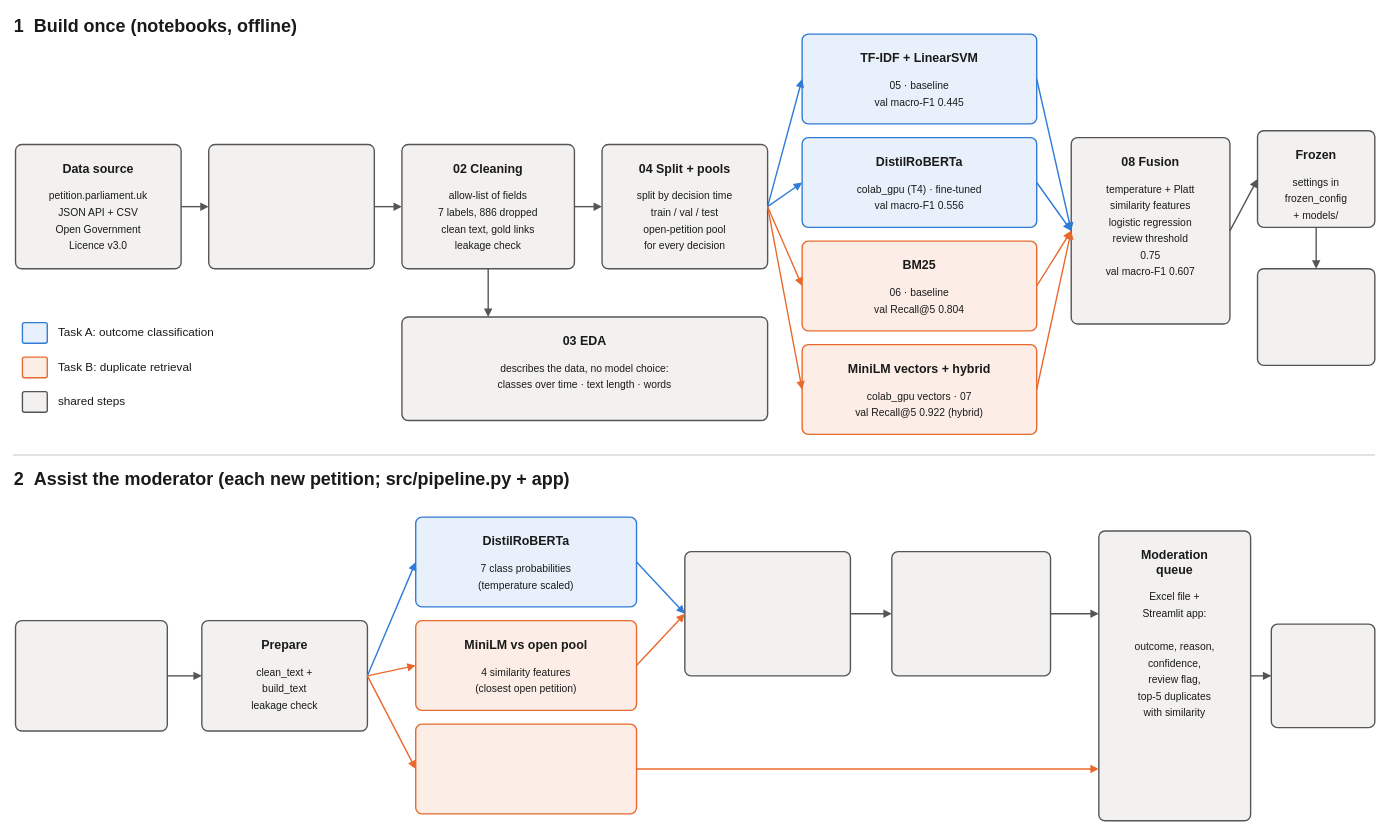
The diagram is 1387 pixels wide and 833 high, and some of its shapes have lost their labels. Here are the shapes that lost their labels. From the top down, the box of each, then its label:
(208, 144, 375, 269): Collect collect.py 128,077 petitions snapshot 25 Sep 2026 checked by SHA-256
(1256, 268, 1375, 366): 09 Test used once 6,182 petitions
(684, 551, 851, 676): Fusion model predicted outcome + calibrated confidence
(891, 551, 1051, 676): Review flag confidence < 0.75 = look closer
(14, 620, 168, 731): New petition title, background, additional details (text only)
(1270, 623, 1375, 728): Moderator makes the decision
(415, 723, 637, 814): Hybrid retrieval BM25 + MiniLM top-5 open petitions
